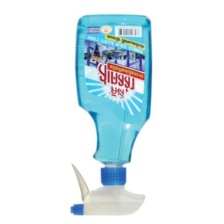cleaning_solution: (64, 11, 157, 219)
